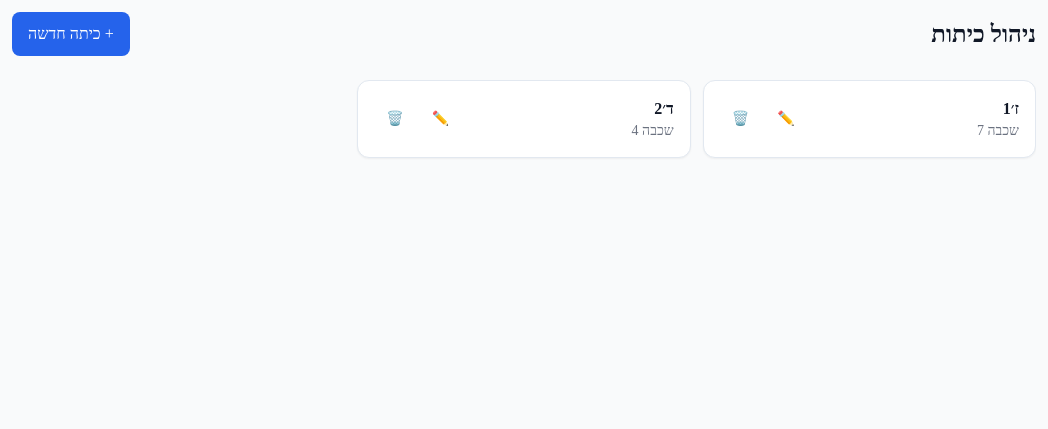
Test: ClassesManager › opens create form when clicking add
The width and height of the screenshot is (1048, 429).
Click the button "+ כיתה חדשה" at point(71, 34), box x1=12 y1=12 x2=130 y2=56
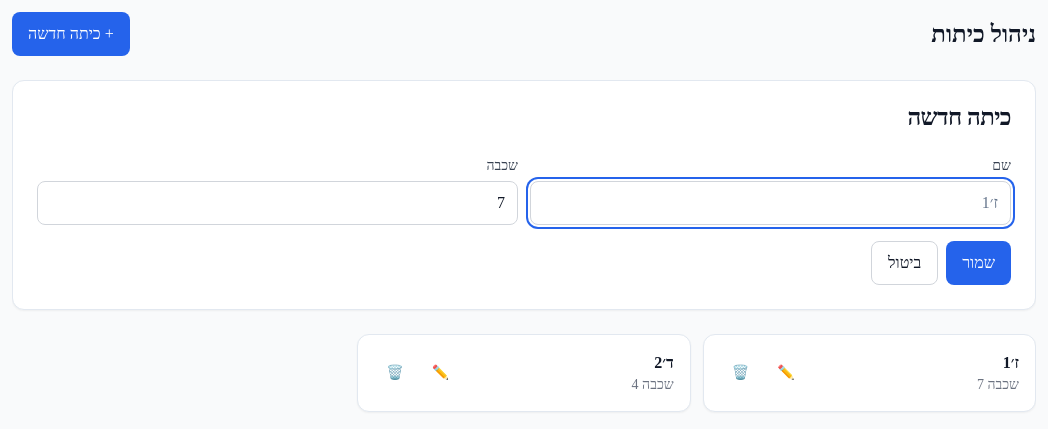
expect the field labelled "שם" is shown: met, box x1=530 y1=181 x2=1011 y2=225
expect the number field labelled "שכבה" is shown: met, box x1=37 y1=181 x2=518 y2=225
